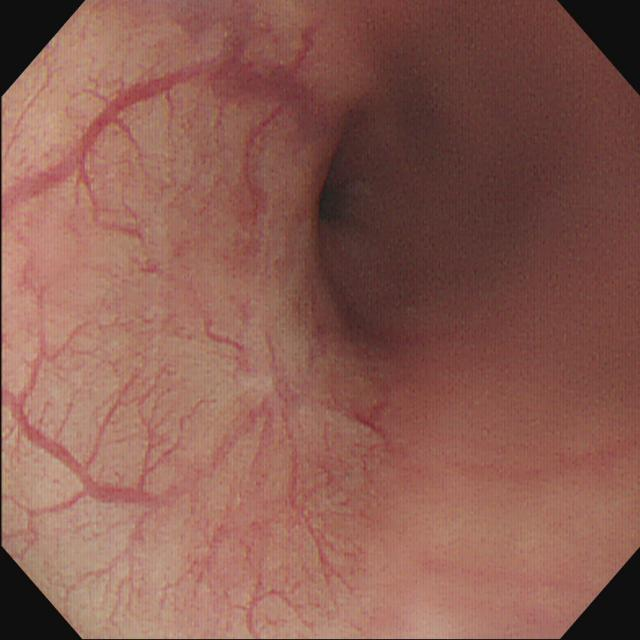A: (195, 27, 317, 119), (348, 402, 393, 443)
